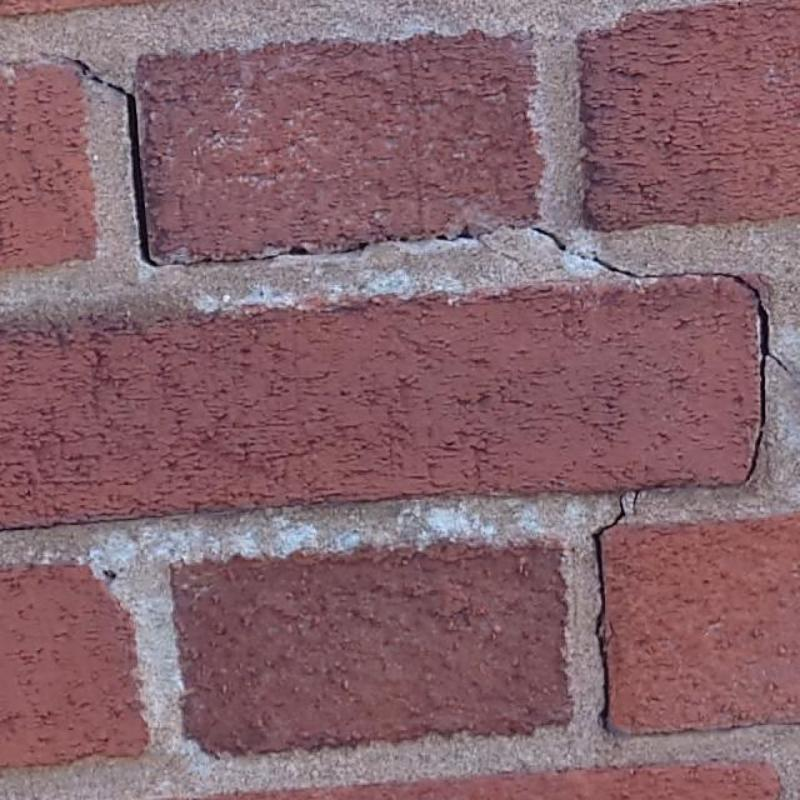crack: (66, 59, 156, 266), (160, 222, 528, 270), (714, 274, 791, 483), (590, 492, 628, 733), (595, 259, 683, 279), (533, 227, 566, 251), (632, 489, 640, 515)
